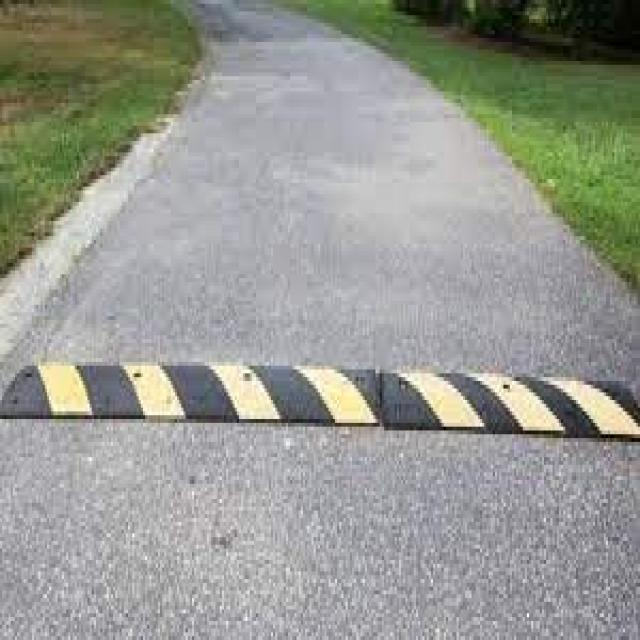Marked Bump: (10, 340, 590, 462)
